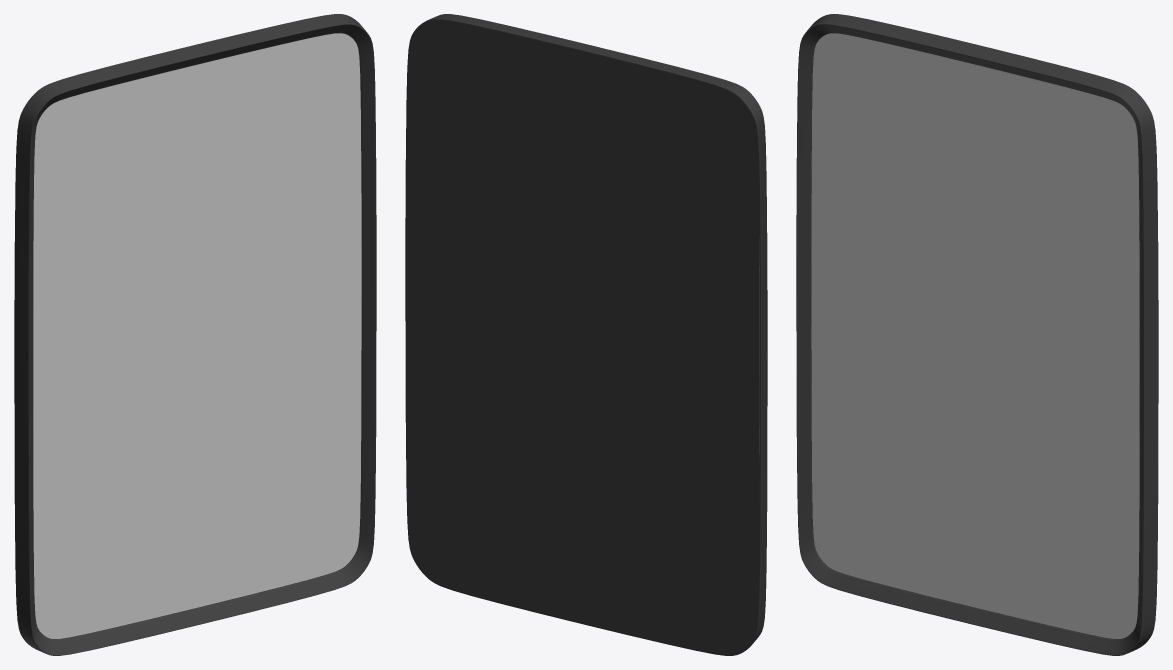
Rendered from Mirror_003(Black).gltf.
3 renders of one model, left to right at view 1: azimuth 30°, elevation 25°; view 2: azimuth 150°, elevation 25°; view 3: azimuth 330°, elevation 25°, orthographic.
Visible parts, largest first — view 1: Mirror_003; view 2: Mirror_003; view 3: Mirror_003.
Boxes of the visible parts, left/top/right/bottom form: Mirror_003: left=14, top=14, right=376, bottom=655; Mirror_003: left=405, top=14, right=767, bottom=655; Mirror_003: left=796, top=14, right=1158, bottom=655.
Bounding box in the file's own units: 0.5679 × 0.8748 × 0.0289.
Materials: 1 (1 with a texture image).
